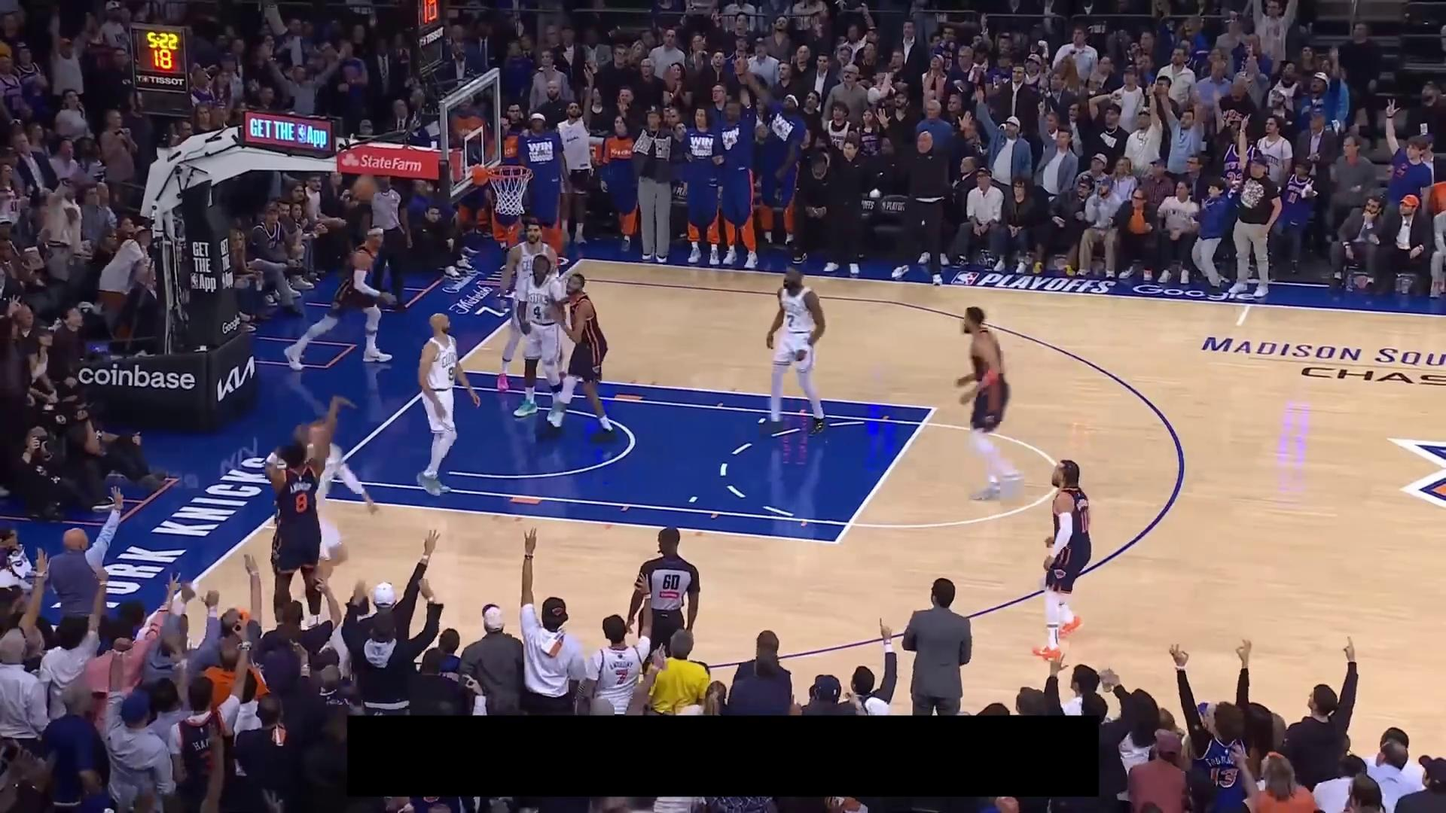ball: (351, 172, 377, 201)
number: (295, 491, 309, 514), (446, 366, 455, 382), (533, 304, 542, 320), (786, 314, 795, 328)
player: (284, 224, 397, 377), (957, 304, 1029, 500), (539, 273, 618, 444), (411, 310, 482, 497), (1030, 458, 1094, 665), (758, 261, 831, 436), (497, 216, 562, 393), (512, 250, 573, 418)
player-jump-shot: (261, 395, 358, 631)
player-shot-block: (288, 419, 383, 606)
referee: (627, 525, 705, 669), (356, 173, 416, 315)
rim: (487, 164, 533, 181)
